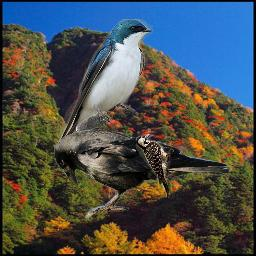Crow: (54, 129, 232, 219)
Swallow: (54, 19, 153, 153)
Woodpecker: (136, 134, 175, 199)
